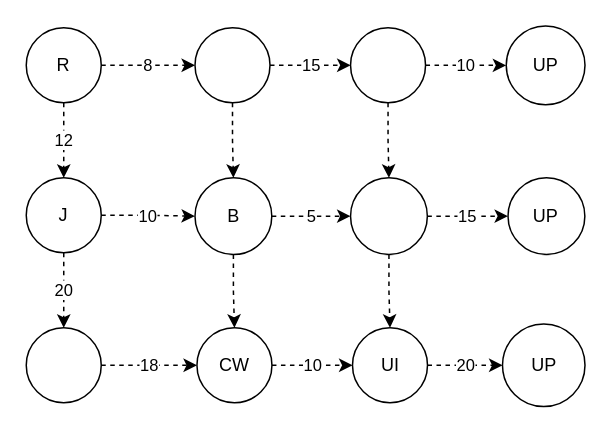
The diagram is 612 pixels wide and 434 high, and some of its shapes have lost their labels. Each missing label, with the centre of its shape:
"CK" goes at [388,215].
"CP" goes at [232,64].
"KB" goes at [63,364].
"PI" goes at [387,64].
